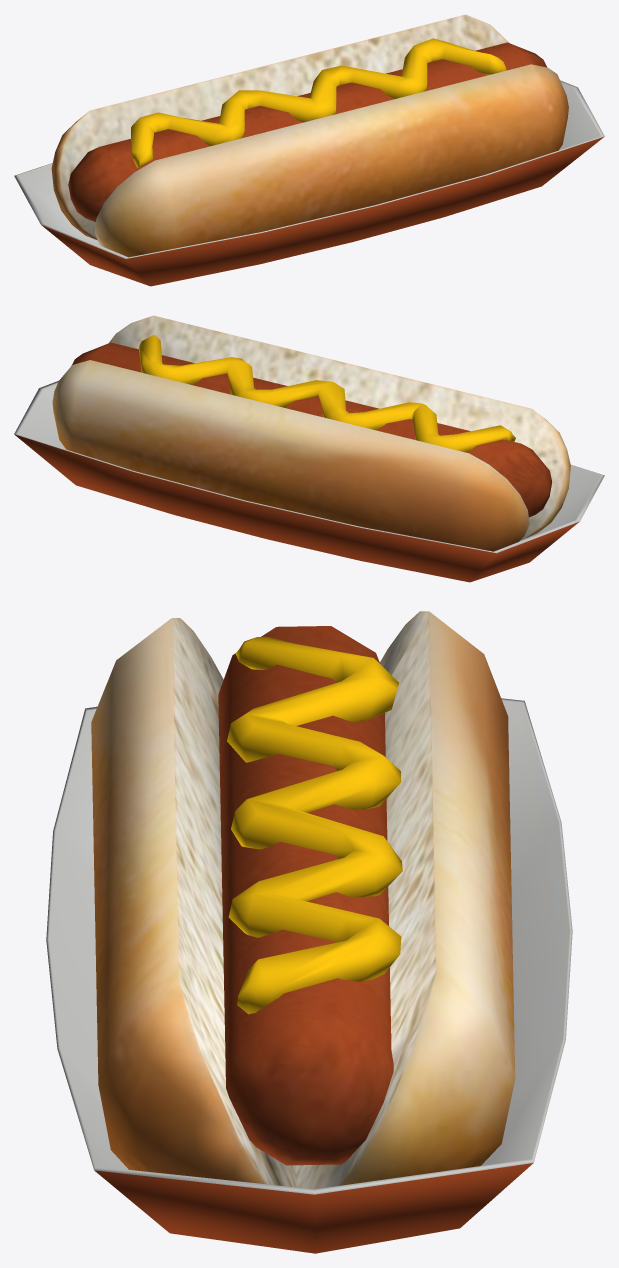
Rendered from Hh-Hotdog.glb.
3 renders of one model, top to bottom at view 1: azimuth 30°, elevation 25°; view 2: azimuth 150°, elevation 25°; view 3: azimuth 270°, elevation 25°, orthographic. The views are drawn at different scales.
Visible parts, largest first — view 1: Hotdog_Sphere; view 2: Hotdog_Sphere; view 3: Hotdog_Sphere.
Boxes of the visible parts, x1=… form: Hotdog_Sphere: x1=14, y1=14, x2=604, y2=286; Hotdog_Sphere: x1=14, y1=315, x2=604, y2=582; Hotdog_Sphere: x1=46, y1=611, x2=572, y2=1253.
Bounding box in the file's own units: 0.7499 × 0.1702 × 0.3174.
1 material, 1 textured.
